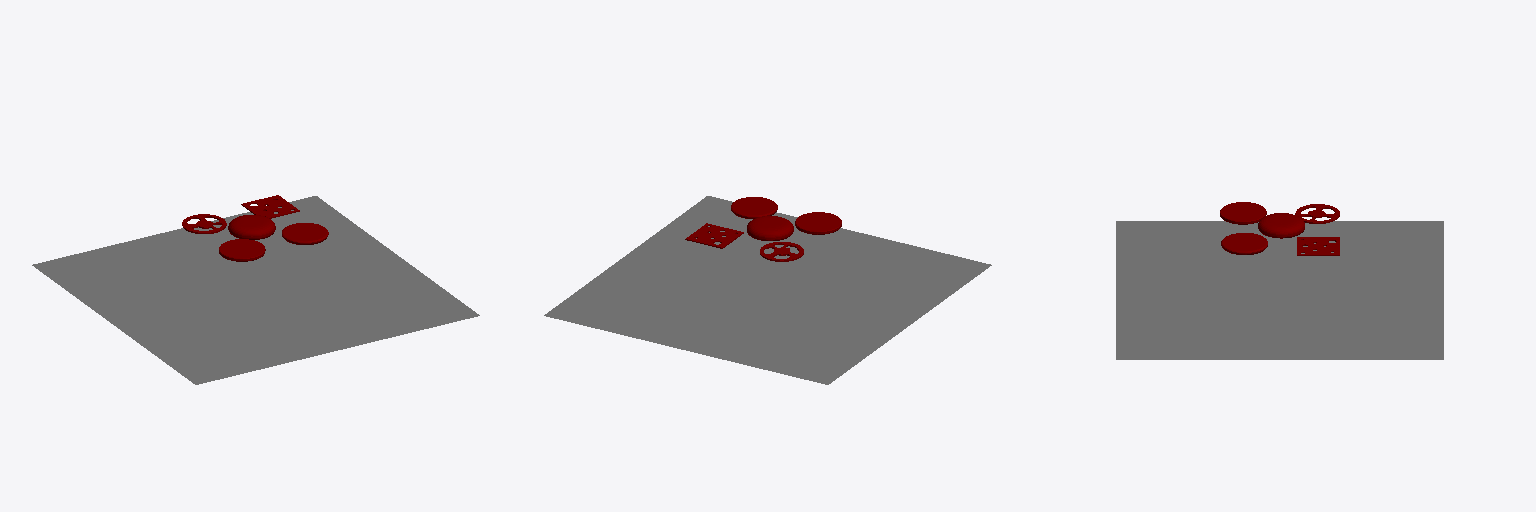
Rendered from ground_burger.obj.
3 renders of one model, left to right at view 1: azimuth 30°, elevation 25°; view 2: azimuth 150°, elevation 25°; view 3: azimuth 270°, elevation 25°, orthographic.
Visible parts, largest first — view 1: ground:pPlane1, hamburger:Mesh; view 2: ground:pPlane1, hamburger:Mesh; view 3: ground:pPlane1, hamburger:Mesh.
Part boxes in pixels (x1,y1,x2,y2): ground:pPlane1: (32,196,479,384); hamburger:Mesh: (182,195,328,261); ground:pPlane1: (544,196,991,384); hamburger:Mesh: (685,197,841,261); ground:pPlane1: (1116,221,1443,359); hamburger:Mesh: (1220,202,1339,255).
Bounding box in the file's own units: 20 × 4.62 × 20.